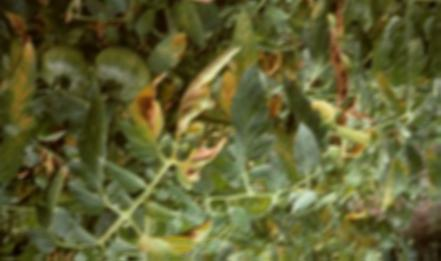Tomato Early blight leaf: (173, 49, 243, 141), (1, 16, 40, 136), (128, 76, 167, 166), (140, 220, 219, 261), (176, 140, 234, 187), (35, 165, 70, 237)
Tomato leaf: (72, 86, 110, 189), (230, 69, 269, 164), (295, 123, 318, 179)
